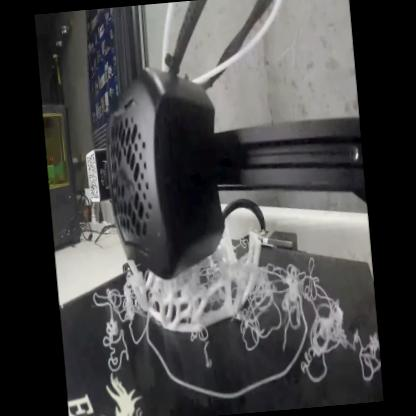fail: (91, 244, 385, 408)
